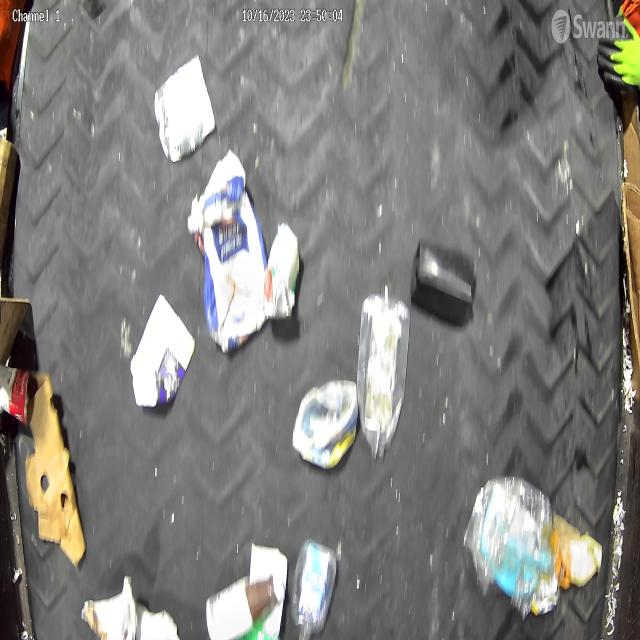can: (154, 55, 218, 166), (291, 379, 358, 470)
non_white_jug: (190, 148, 268, 352)
plastic_bottle: (292, 534, 340, 638)
